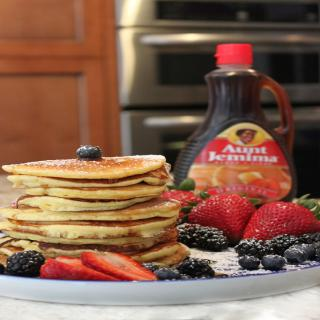Pancake: (0, 161, 196, 265), (4, 158, 166, 178)
